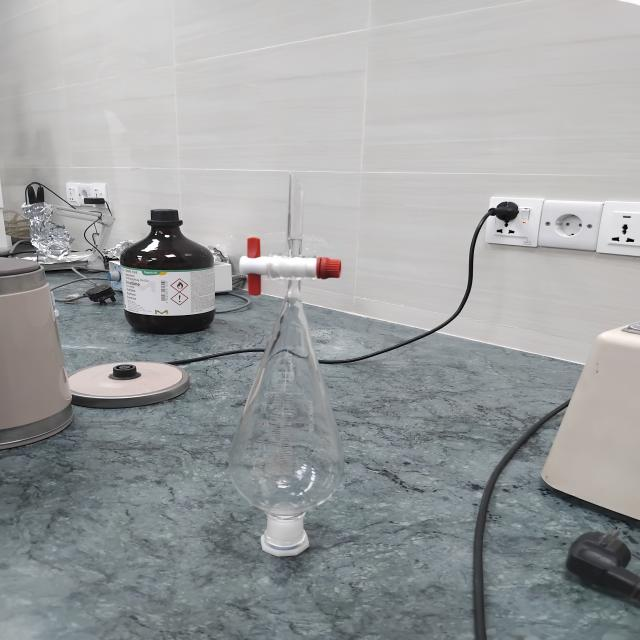Separating_Funnel: (225, 144, 377, 582)
